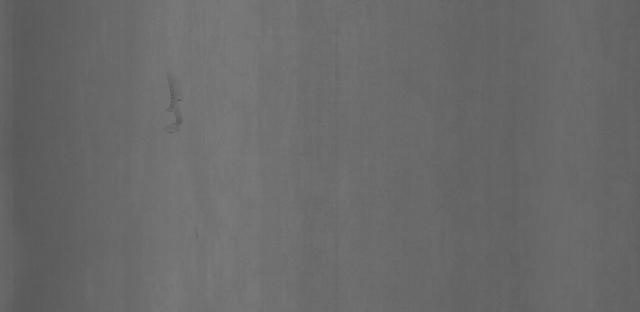water_spot: (155, 67, 203, 145)
